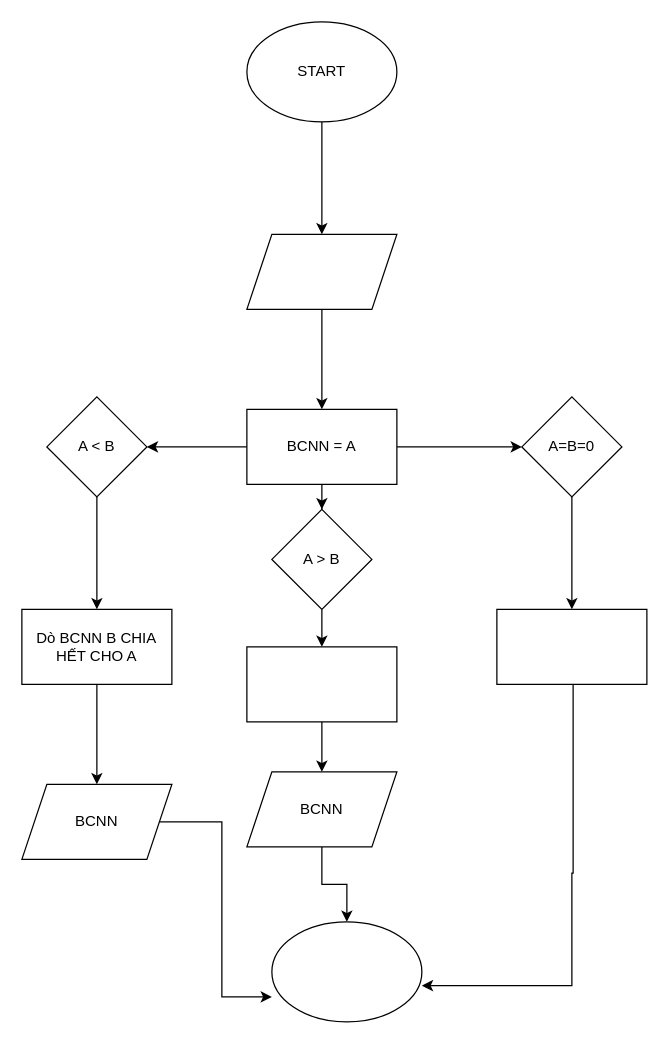
This 669x1044 diagram has some shape labels left out. The shapes that lost their labels are listed below. From the top down, each one's centre as x and y in pixels, then its label:
At point (321, 271): "A,B".
At point (571, 646): "KHÔNG BCNN".
At point (321, 684): "Dò BCNN A CHIA HẾT CHO B".
At point (346, 971): "END".
